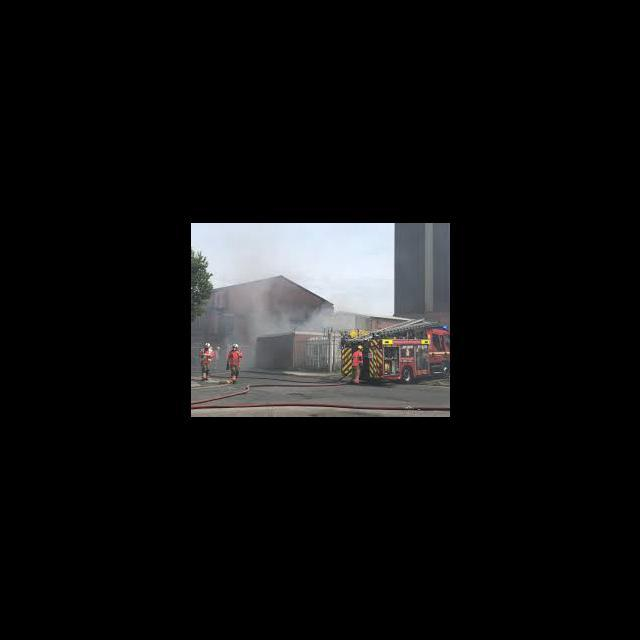Smoke: (228, 277, 277, 333), (306, 306, 359, 328)
